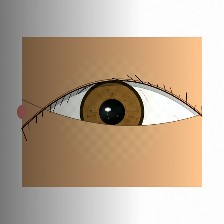pinguecula_lesion: (29, 95, 60, 119)
